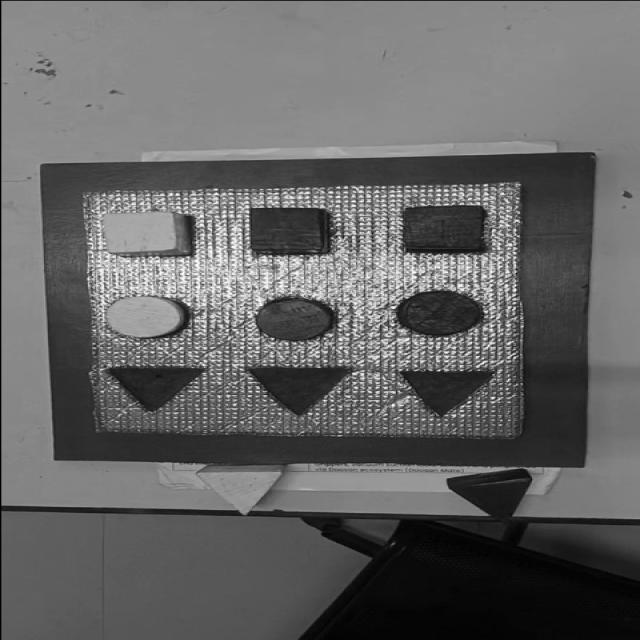bcircle: (398, 290, 484, 336)
bcube: (402, 205, 486, 253)
mttriangle: (245, 366, 354, 417), (398, 369, 496, 418), (103, 365, 202, 412)
rcircle: (255, 297, 336, 341)
rcube: (248, 207, 327, 255)
rtriangle: (445, 467, 534, 522)
wb: (79, 183, 531, 439)
ycircle: (104, 294, 188, 340)
ycube: (103, 212, 178, 255)
ytriangle: (194, 463, 285, 515)
